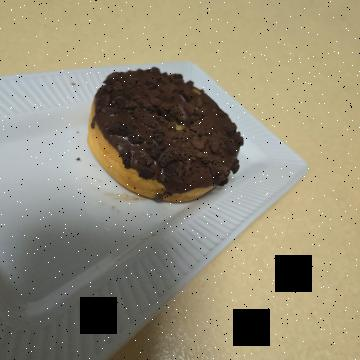doughnut: (68, 103, 228, 286)
